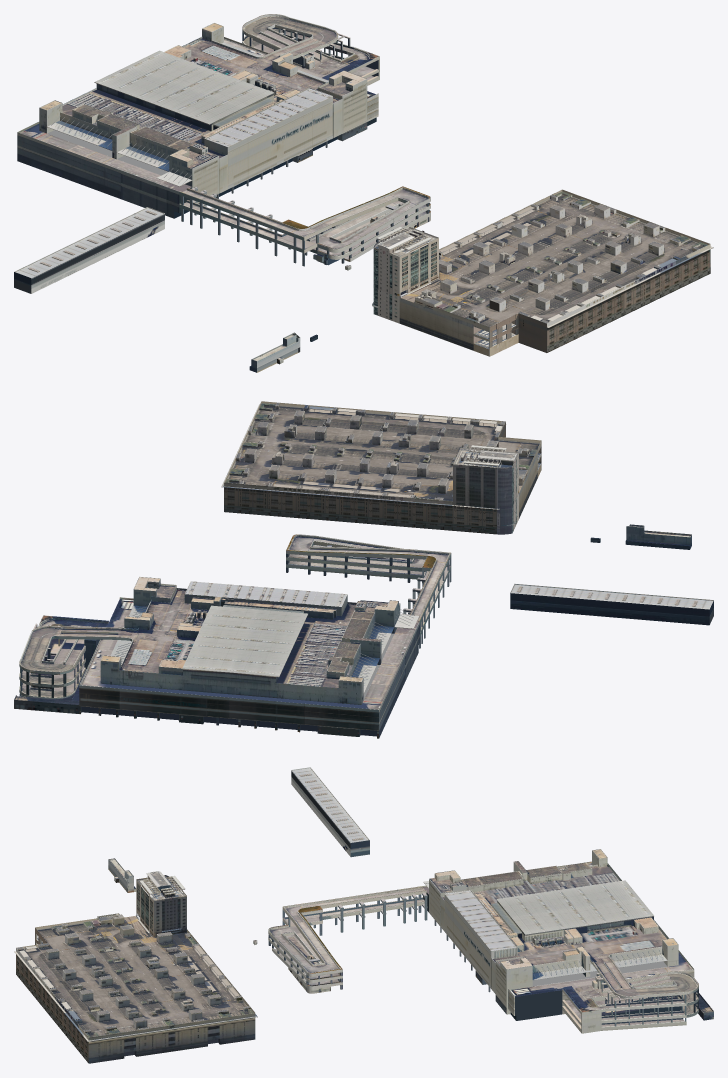
File: surrounding_buildings_01.glb
The picture shows the model from 3 angles, top to bottom: view 1: azimuth 30°, elevation 25°; view 2: azimuth 150°, elevation 25°; view 3: azimuth 270°, elevation 25°; orthographic projection. The views are drawn at different scales.
Visible parts, largest first — view 1: B102971771501063A0.001, B103731730901063A1.001, B102601733401063A1.001, B100401749101063A0.001, B101111729701063A0.001; view 2: B102971771501063A0.001, B103731730901063A1.001, B102601733401063A1.001, B100401749101063A0.001, B101111729701063A0.001; view 3: B102971771501063A0.001, B103731730901063A1.001, B102601733401063A1.001, B100401749101063A0.001, B101111729701063A0.001.
Boxes of the visible parts, left/top/right/bottom form: B102971771501063A0.001: left=17, top=14, right=430, bottom=266; B103731730901063A1.001: left=399, top=189, right=713, bottom=356; B102601733401063A1.001: left=372, top=227, right=438, bottom=323; B100401749101063A0.001: left=14, top=207, right=164, bottom=293; B101111729701063A0.001: left=249, top=332, right=300, bottom=372; B102971771501063A0.001: left=14, top=534, right=451, bottom=738; B103731730901063A1.001: left=221, top=401, right=541, bottom=530; B102601733401063A1.001: left=452, top=445, right=518, bottom=534; B100401749101063A0.001: left=510, top=583, right=713, bottom=625; B101111729701063A0.001: left=625, top=524, right=691, bottom=549; B102971771501063A0.001: left=268, top=849, right=713, bottom=1033; B103731730901063A1.001: left=14, top=913, right=257, bottom=1063; B102601733401063A1.001: left=136, top=871, right=186, bottom=936; B100401749101063A0.001: left=291, top=767, right=369, bottom=857; B101111729701063A0.001: left=108, top=858, right=136, bottom=892.
Size of the model in its own units: 557 by 67.8 by 654.
Materials: 21 (20 with a texture image).
